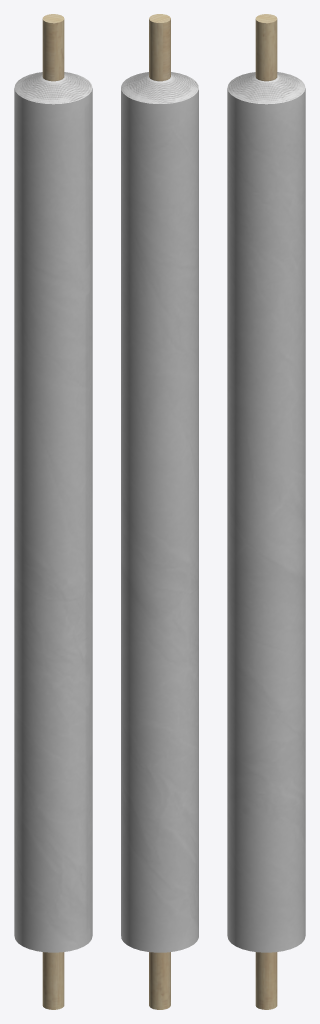
File: SM_Paper_Rolls_01d.fbx
3 views of the same model, side by side, from view 1: azimuth 90°, elevation 25°; view 2: azimuth 150°, elevation 25°; view 3: azimuth 270°, elevation 25° (orthographic).
Visible parts, largest first — view 1: SM_Paper_Rolls_01d_LOD0; view 2: SM_Paper_Rolls_01d_LOD0; view 3: SM_Paper_Rolls_01d_LOD0.
Boxes of the visible parts, bbox=[...] form: SM_Paper_Rolls_01d_LOD0: bbox=[14, 14, 92, 1009]; SM_Paper_Rolls_01d_LOD0: bbox=[121, 14, 198, 1009]; SM_Paper_Rolls_01d_LOD0: bbox=[227, 14, 305, 1009].
Size of the model in its own units: 8.35 by 8.35 by 116.
Materials: 1 (1 with a texture image).
